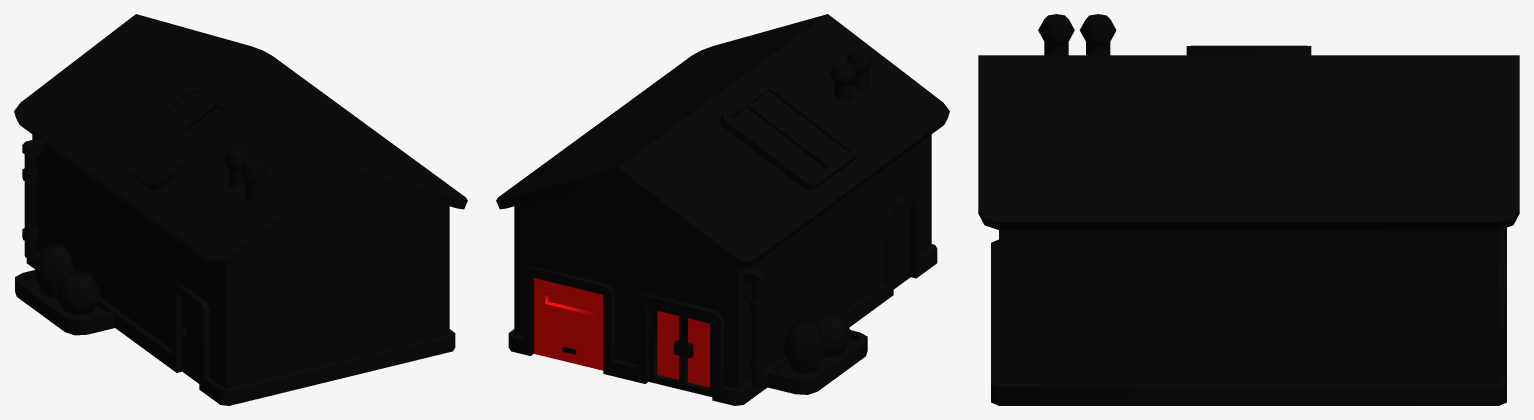
The model's file is building-i.glb.
3 views of the same model, side by side, from view 1: azimuth 30°, elevation 25°; view 2: azimuth 150°, elevation 25°; view 3: azimuth 270°, elevation 25° (orthographic). The views are drawn at different scales.
Parts seen in each view (by area): view 1: building-i; view 2: building-i; view 3: building-i.
Boxes of the visible parts, left/top/right/bottom form: building-i: left=14, top=14, right=467, bottom=405; building-i: left=496, top=14, right=949, bottom=405; building-i: left=978, top=14, right=1519, bottom=405.
Size of the model in its own units: 1.03 by 0.7336 by 1.3.
Materials: 1 (1 with a texture image).
